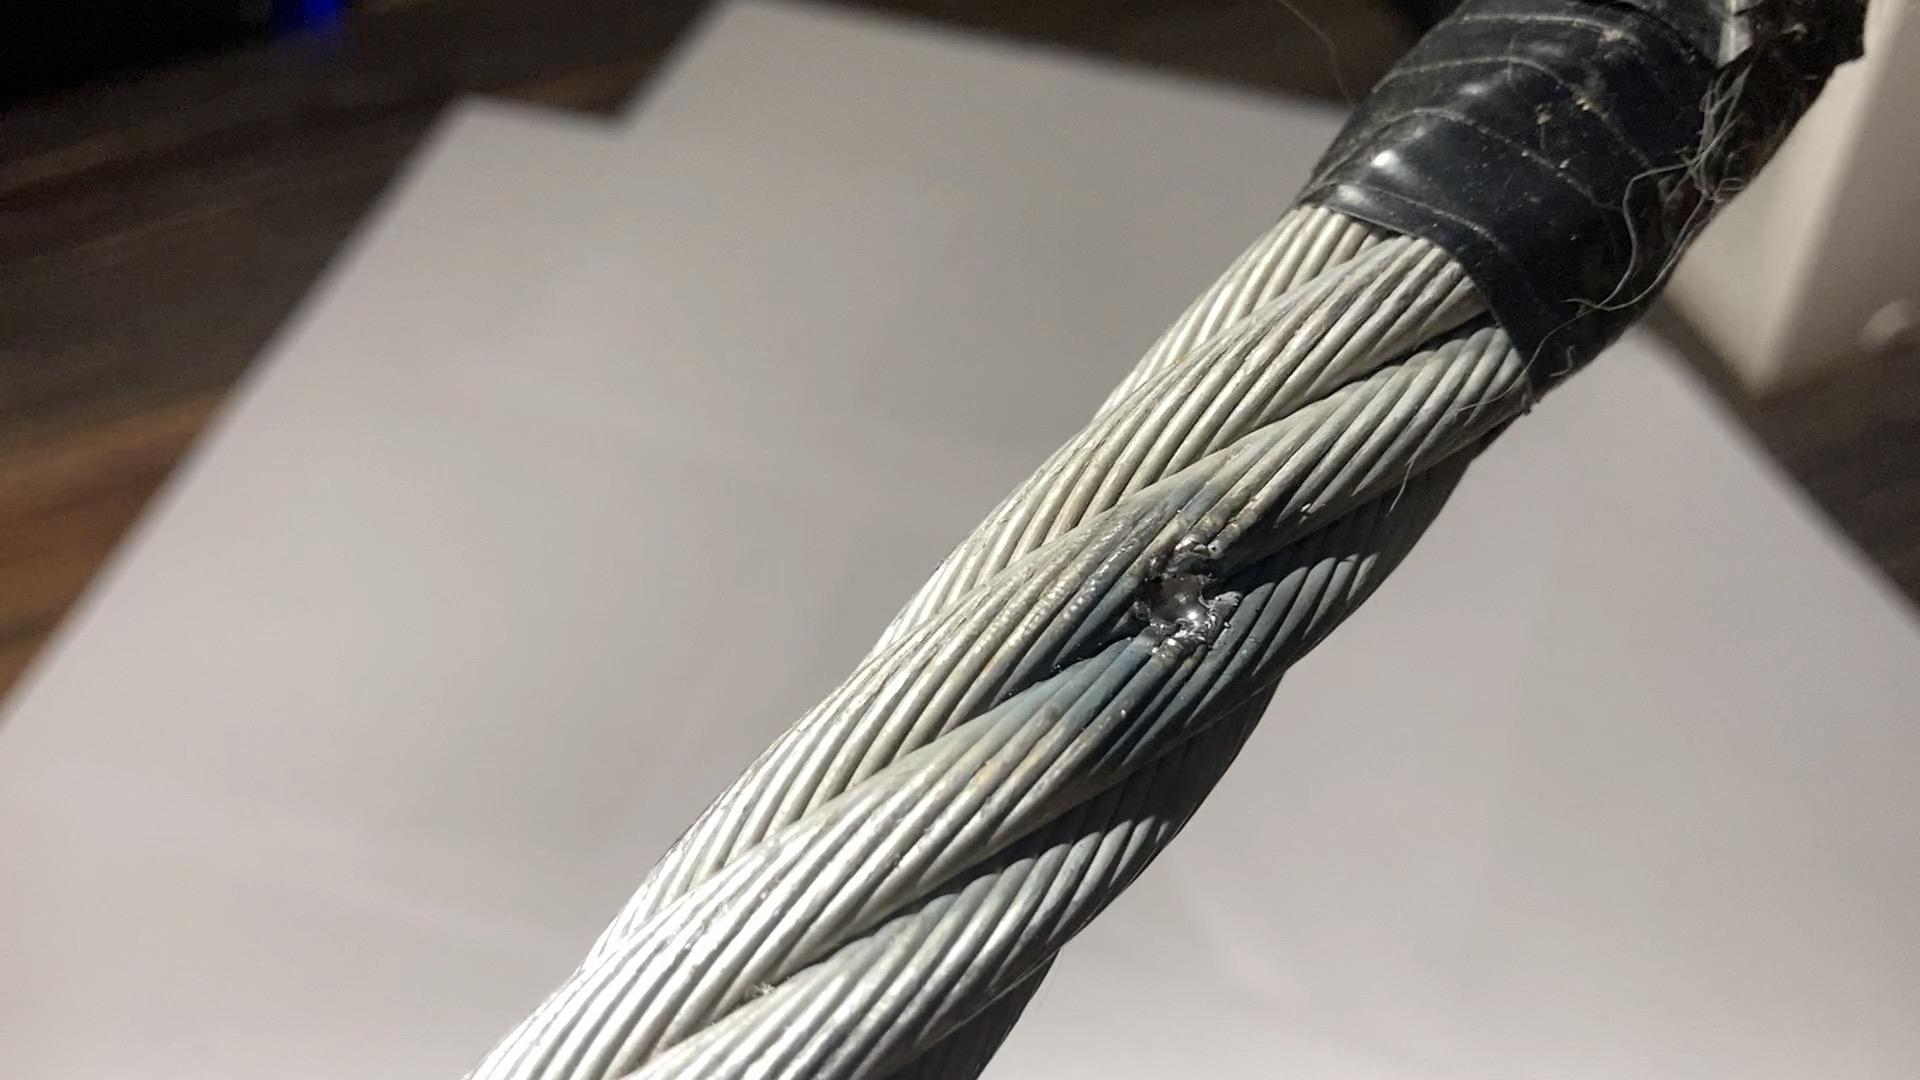thunderbolt: (1071, 477, 1296, 704)
